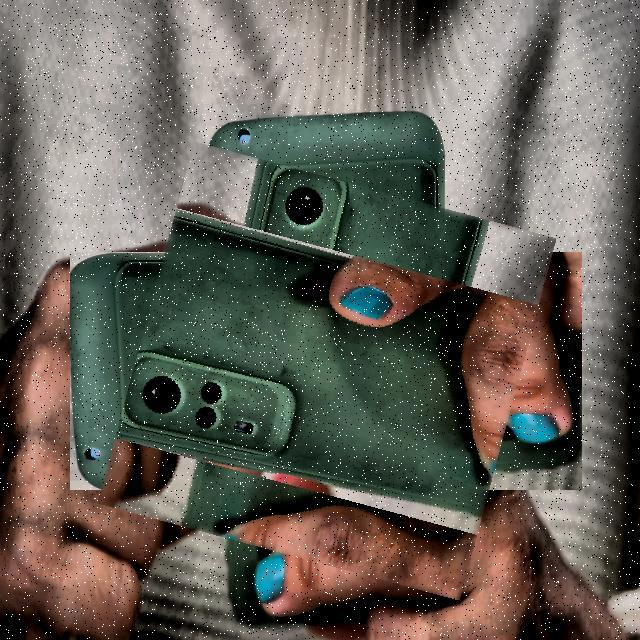Phone: (118, 162, 535, 579)
